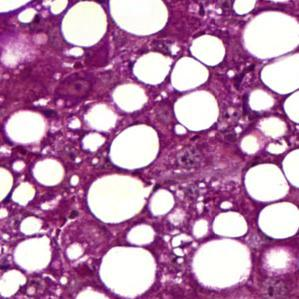steatosis: (110, 124, 162, 171), (172, 89, 221, 132), (63, 1, 107, 48), (5, 112, 52, 145), (190, 32, 230, 64)
